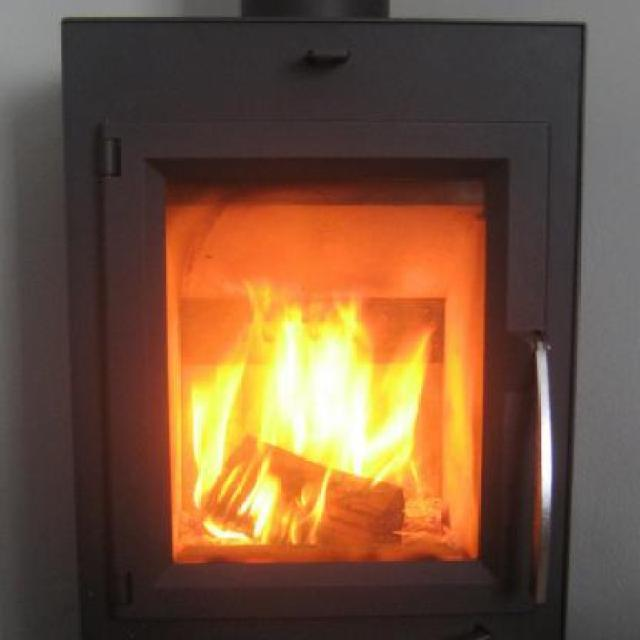Fire: (190, 284, 430, 544), (438, 370, 472, 510)
